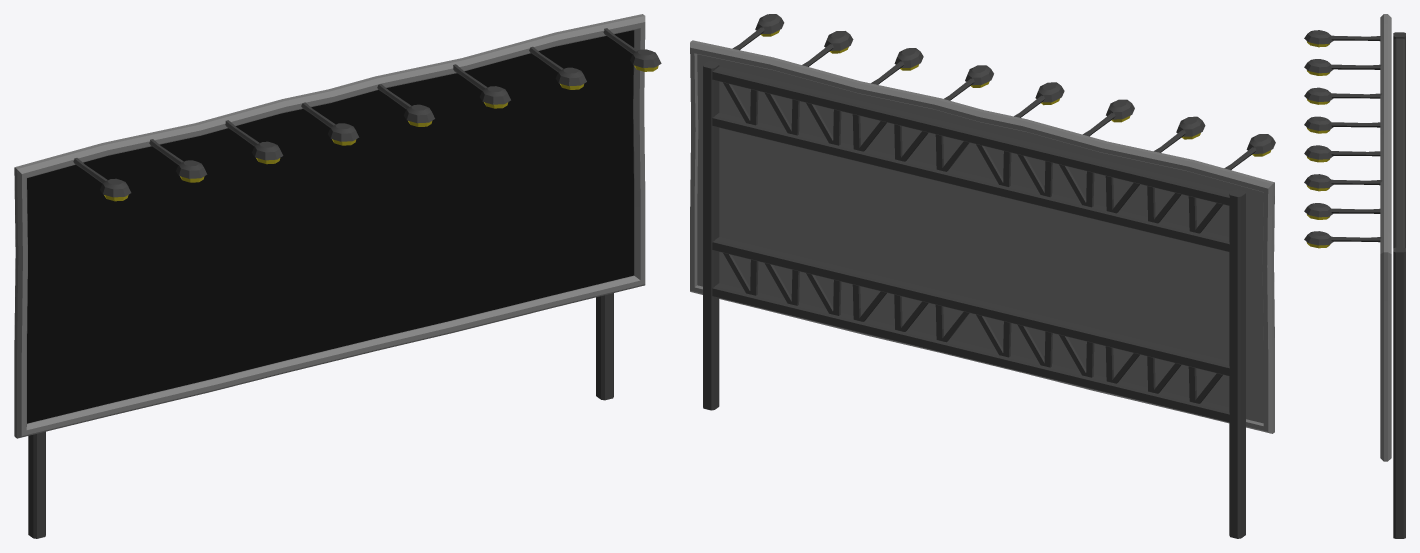
File: SM_screen_02.fbx
3 renders of one model, left to right at view 1: azimuth 30°, elevation 25°; view 2: azimuth 150°, elevation 25°; view 3: azimuth 270°, elevation 25°, orthographic. The views are drawn at different scales.
Visible parts, largest first — view 1: Box158; view 2: Box158; view 3: Box158.
Part boxes in pixels (box(x1,y1,x2,y2)): Box158: box(14, 14, 661, 538); Box158: box(690, 14, 1275, 538); Box158: box(1304, 14, 1405, 538).
Bounding box in the file's own units: 428 × 251 × 77.42.
